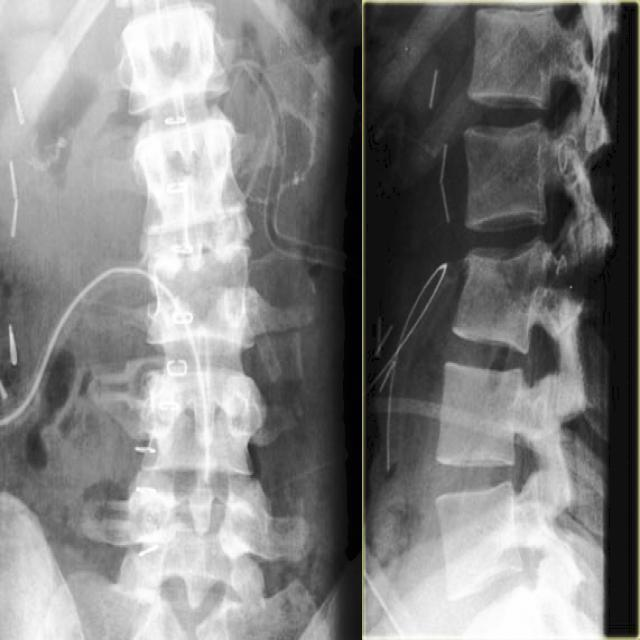Compression-Crush Fracutre: (439, 219, 562, 356)
